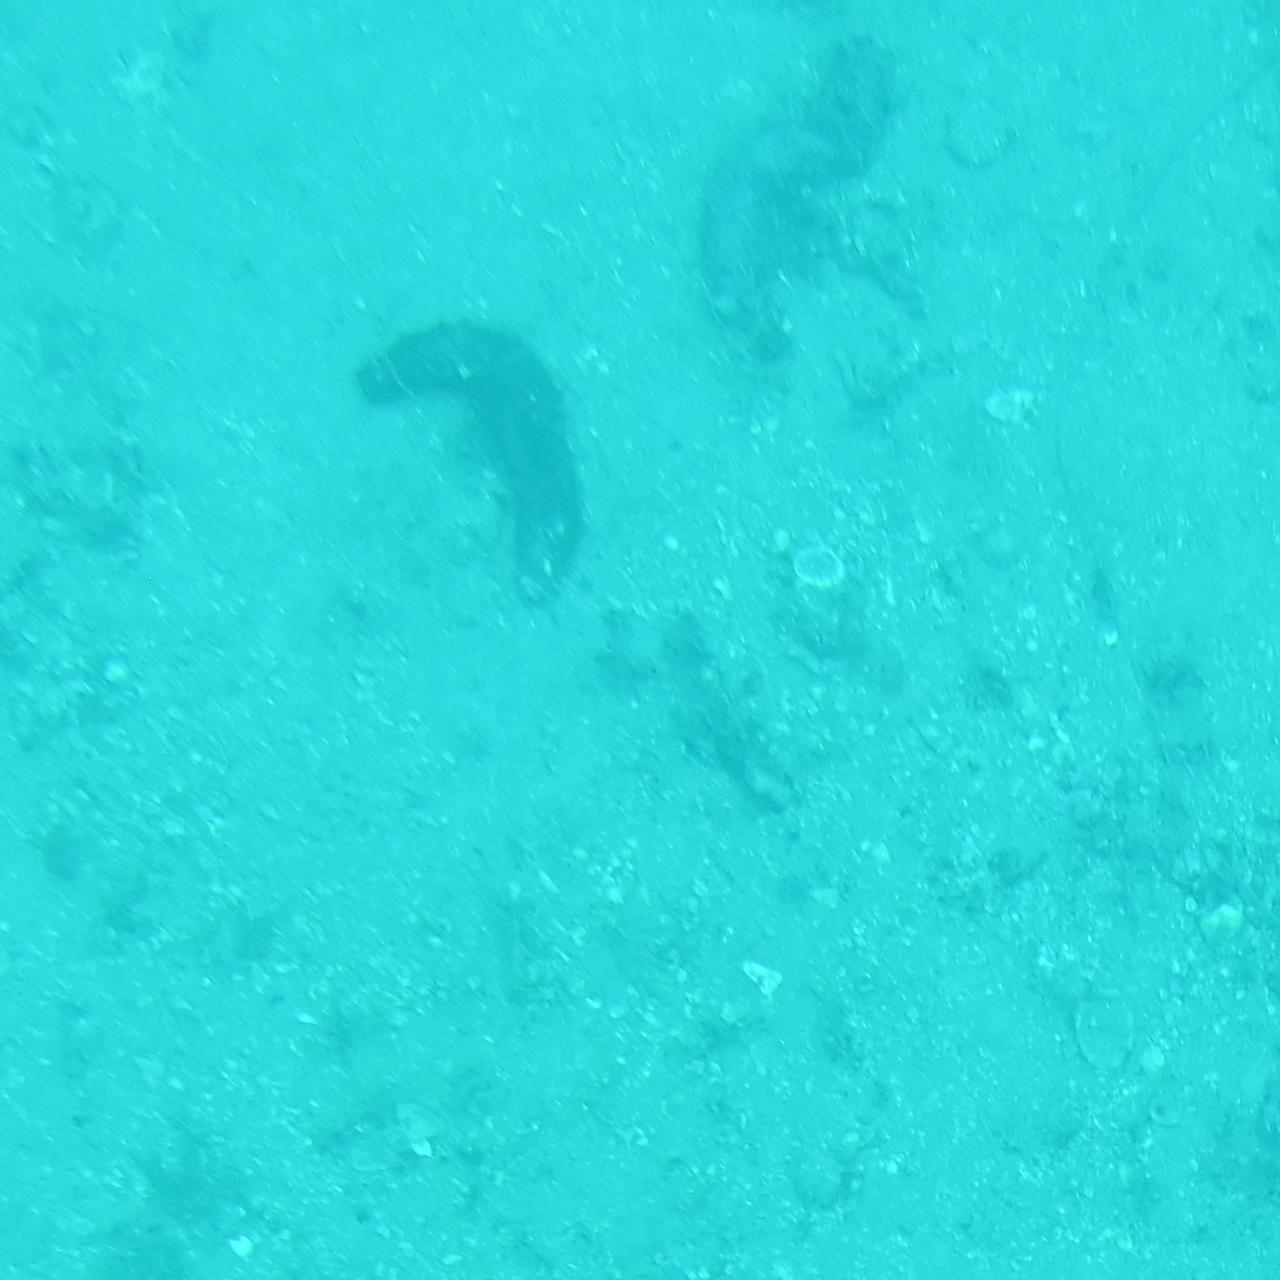Holothuria tubulosa: (350, 309, 595, 614), (707, 27, 910, 388)
